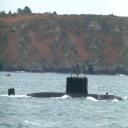submarine: (9, 77, 126, 102)
